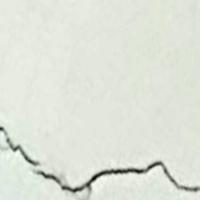crack: (0, 112, 199, 199)
